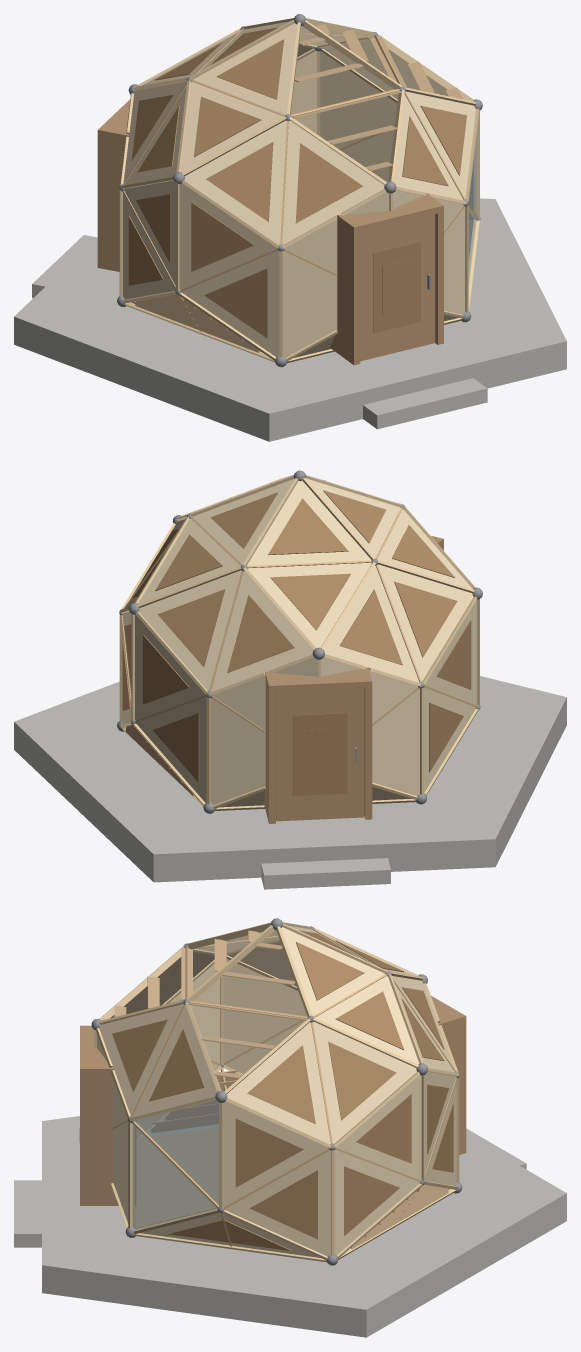
Rendered from dormi_aureo_b.glb.
3 renders of one model, top to bottom at view 1: azimuth 30°, elevation 25°; view 2: azimuth 150°, elevation 25°; view 3: azimuth 270°, elevation 25°, orthographic.
Visible parts, largest first — view 1: cerramiento_panel, base_podio, cerramiento_incrustacion, estructura_madera_icosaedro, puertas_puerta, puerta_hoja_1, detalles_persiana, estructura_madera_dodecaedro, detalles_acero, ventanas_vidrio; view 2: base_podio, cerramiento_panel, cerramiento_incrustacion, puerta_hoja_2, estructura_madera_icosaedro, puertas_puerta, estructura_madera_dodecaedro, detalles_acero, detalles_persiana; view 3: base_podio, cerramiento_panel, cerramiento_incrustacion, estructura_madera_icosaedro, ventanas_vidrio, puertas_puerta, base_piso, detalles_persiana, estructura_madera_dodecaedro, detalles_acero.
Boxes of the visible parts, x1,y1,x2,y2 form: cerramiento_panel: (123,21,475,357); base_podio: (14,198,566,441); cerramiento_incrustacion: (128,27,466,338); estructura_madera_icosaedro: (119,18,479,363); puertas_puerta: (97,99,443,365); puerta_hoja_1: (360,214,435,361); detalles_persiana: (135,24,462,352); estructura_madera_dodecaedro: (123,29,478,331); detalles_acero: (117,14,482,367); ventanas_vidrio: (468,136,476,280); base_podio: (14,676,566,889); cerramiento_panel: (122,478,476,807); cerramiento_incrustacion: (122,490,471,782); puerta_hoja_2: (276,688,363,821); estructura_madera_icosaedro: (119,475,479,810); puertas_puerta: (264,536,443,823); estructura_madera_dodecaedro: (121,507,476,732); detalles_acero: (117,470,482,813); detalles_persiana: (125,475,468,795); base_podio: (14,1116,566,1337); cerramiento_panel: (97,926,456,1257); cerramiento_incrustacion: (112,930,453,1250); estructura_madera_icosaedro: (94,922,459,1262); ventanas_vidrio: (133,1100,218,1229); puertas_puerta: (80,996,466,1205); base_piso: (135,1128,449,1227); detalles_persiana: (114,930,448,1249); estructura_madera_dodecaedro: (112,929,457,1246); detalles_acero: (91,918,462,1265).
Bounding box in the file's own units: 7.85 × 4.75 × 7.87.
